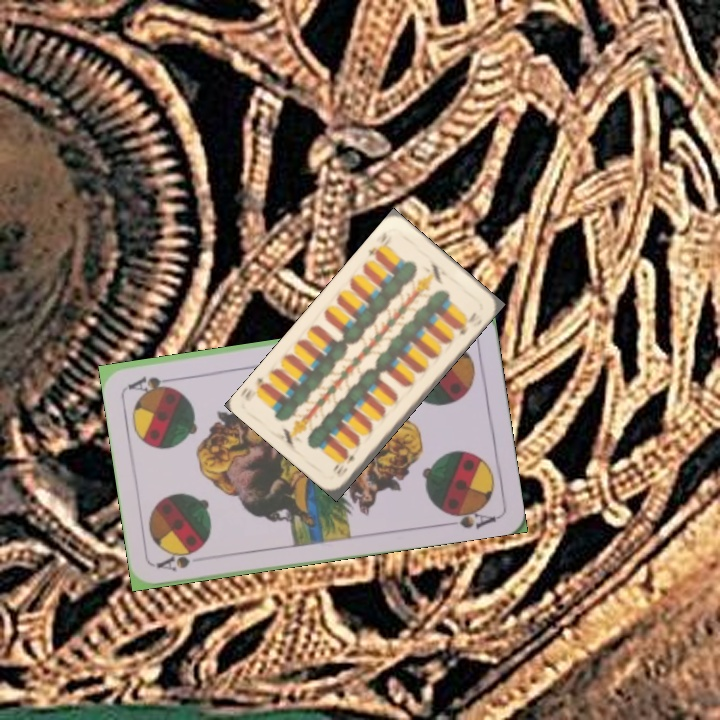E10: (364, 228, 390, 262), (332, 451, 357, 480)
SA: (153, 545, 202, 574)
